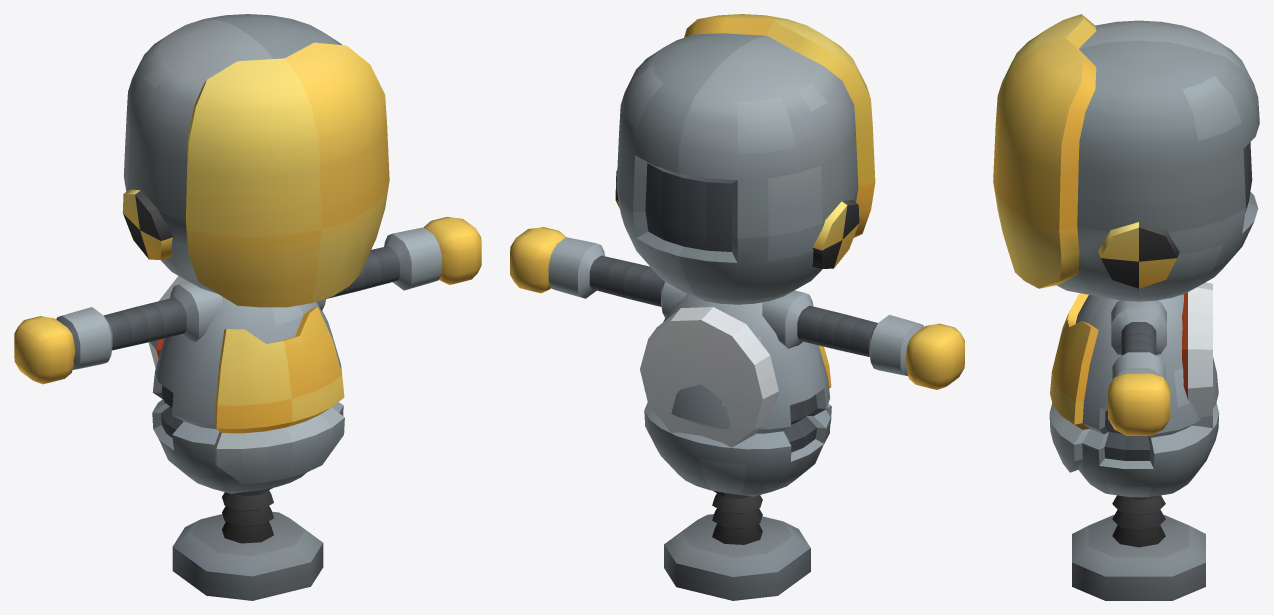
Rendered from dummy.glb.
3 renders of one model, left to right at view 1: azimuth 30°, elevation 25°; view 2: azimuth 150°, elevation 25°; view 3: azimuth 270°, elevation 25°, orthographic. The views are drawn at different scales.
Visible parts, largest first — view 1: Dummy_Head, PrototypePete_body.010, Cube.16121, Dummy_ArmRight, Dummy_ArmLeft; view 2: Dummy_Head, PrototypePete_body.010, Dummy_Target, Cube.16121, Dummy_ArmRight, Dummy_ArmLeft; view 3: Dummy_Head, PrototypePete_body.010, Cube.16121, Dummy_ArmLeft, Dummy_Target.
Part boxes in pixels (box(x1,y1,x2,y2)): Dummy_Head: box(122, 14, 389, 307); PrototypePete_body.010: box(152, 296, 344, 493); Cube.16121: box(172, 487, 323, 600); Dummy_ArmRight: box(14, 282, 222, 384); Dummy_ArmLeft: box(316, 217, 481, 310); Dummy_Head: box(615, 14, 875, 304); PrototypePete_body.010: box(644, 294, 831, 496); Dummy_Target: box(640, 307, 778, 447); Cube.16121: box(664, 491, 810, 600); Dummy_ArmRight: box(762, 290, 964, 389); Dummy_ArmLeft: box(510, 227, 686, 318); Dummy_Head: box(993, 14, 1259, 301); PrototypePete_body.010: box(1049, 293, 1219, 497); Cube.16121: box(1072, 495, 1205, 600); Dummy_ArmLeft: box(1108, 300, 1170, 435); Dummy_Target: box(1182, 282, 1212, 428).
Bounding box in the file's own units: 1.94 × 2.2 × 0.9934.
1 material, 1 textured.
